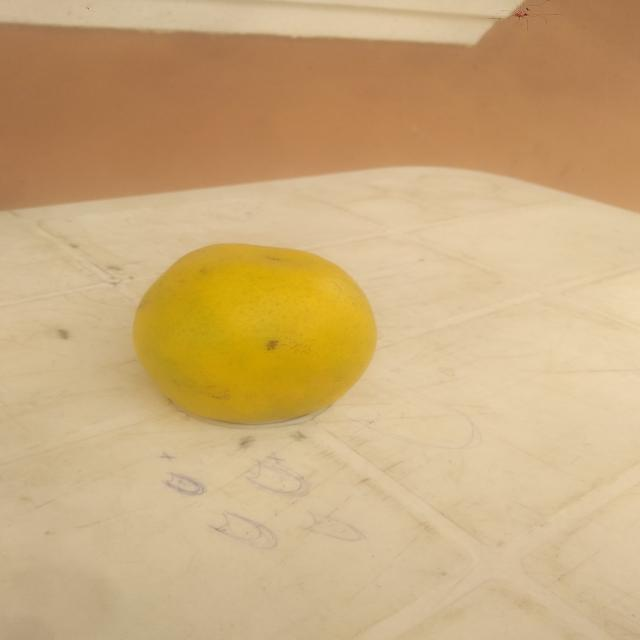Ripe orange: (121, 238, 384, 431)
